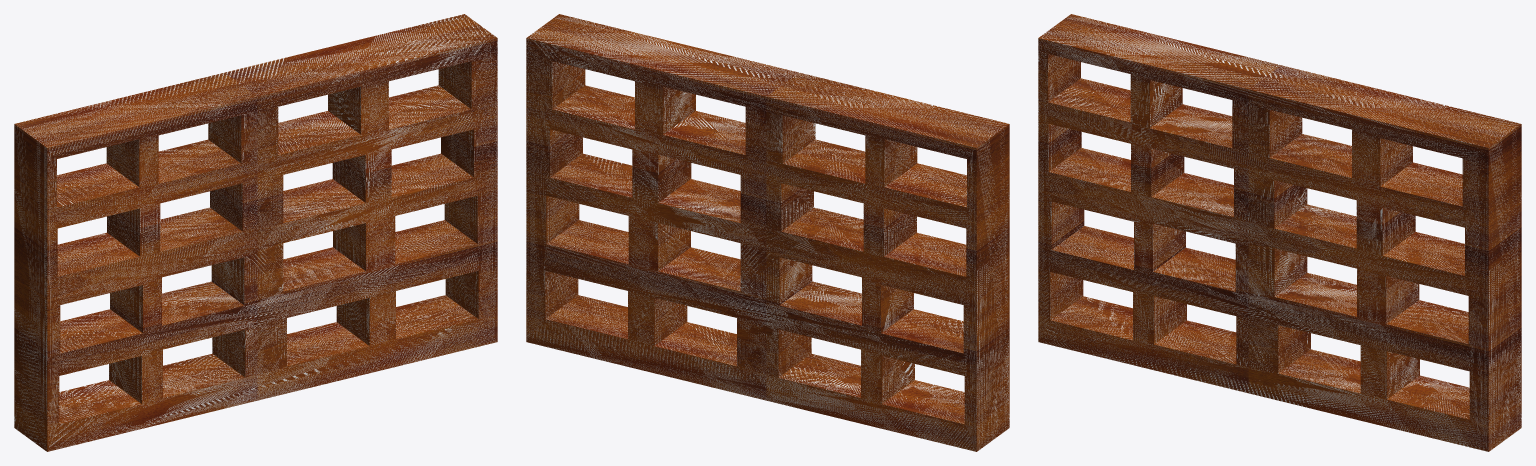
The picture shows the model from 3 angles, left to right: view 1: azimuth 30°, elevation 25°; view 2: azimuth 150°, elevation 25°; view 3: azimuth 330°, elevation 25°; orthographic projection.
Visible parts, largest first — view 1: mesh1_mesh1-geometry; view 2: mesh1_mesh1-geometry; view 3: mesh1_mesh1-geometry.
Part boxes in pixels (x1=…): mesh1_mesh1-geometry: x1=14, y1=14, x2=497, y2=451; mesh1_mesh1-geometry: x1=526, y1=14, x2=1009, y2=451; mesh1_mesh1-geometry: x1=1038, y1=14, x2=1521, y2=451.
Size of the model in its own units: 0.8358 by 0.5388 by 0.1058.
